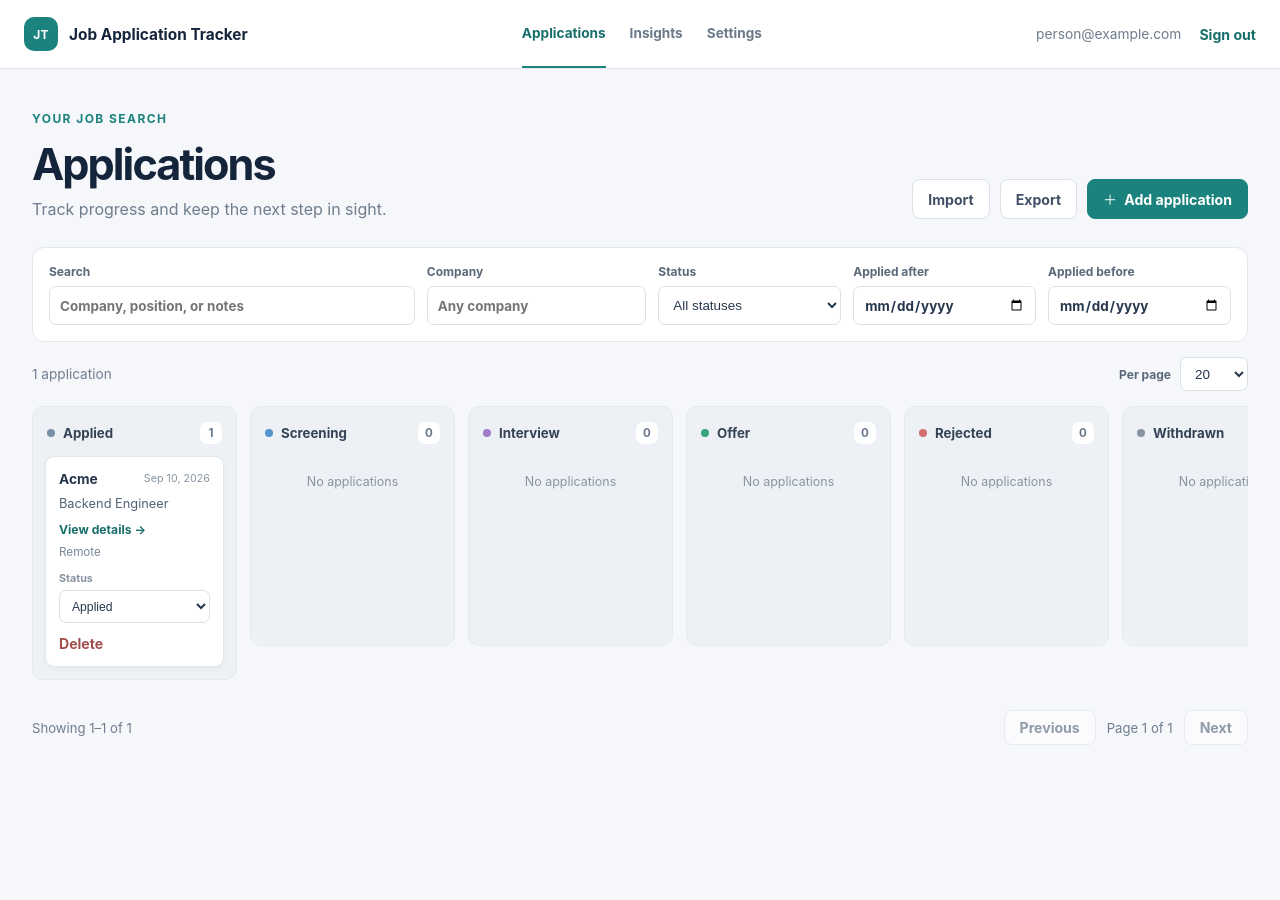
Test case: ApplicationsBoard › shows a useful error when export fails
The image size is (1280, 900).
Expected: the heading "Acme" is shown, [59,470,98,489]
Click the button "Export".
click(1038, 199)  # box [1000,179,1077,219]
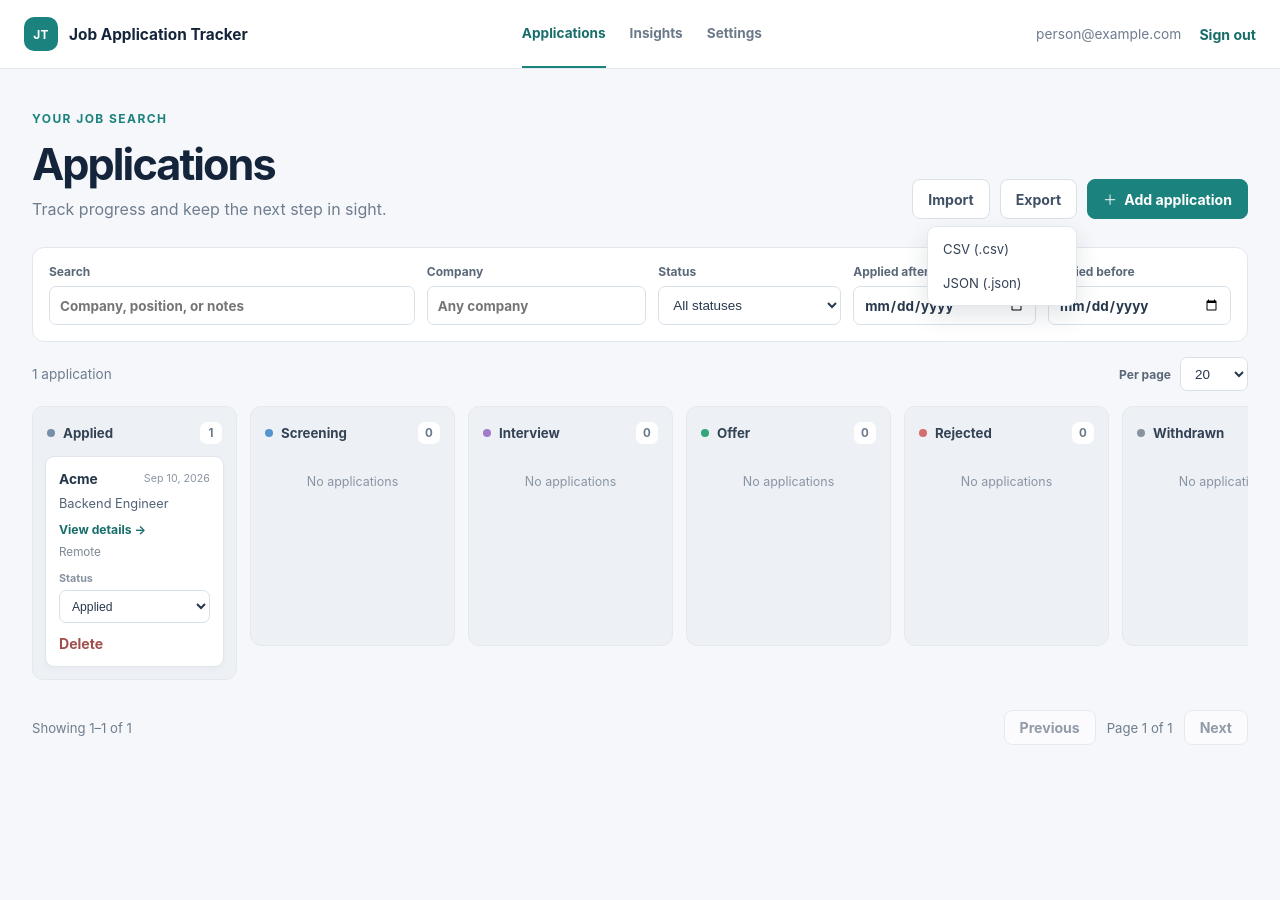
Click the button "JSON (.json)".
click(1002, 283)  # box [933,266,1071,300]
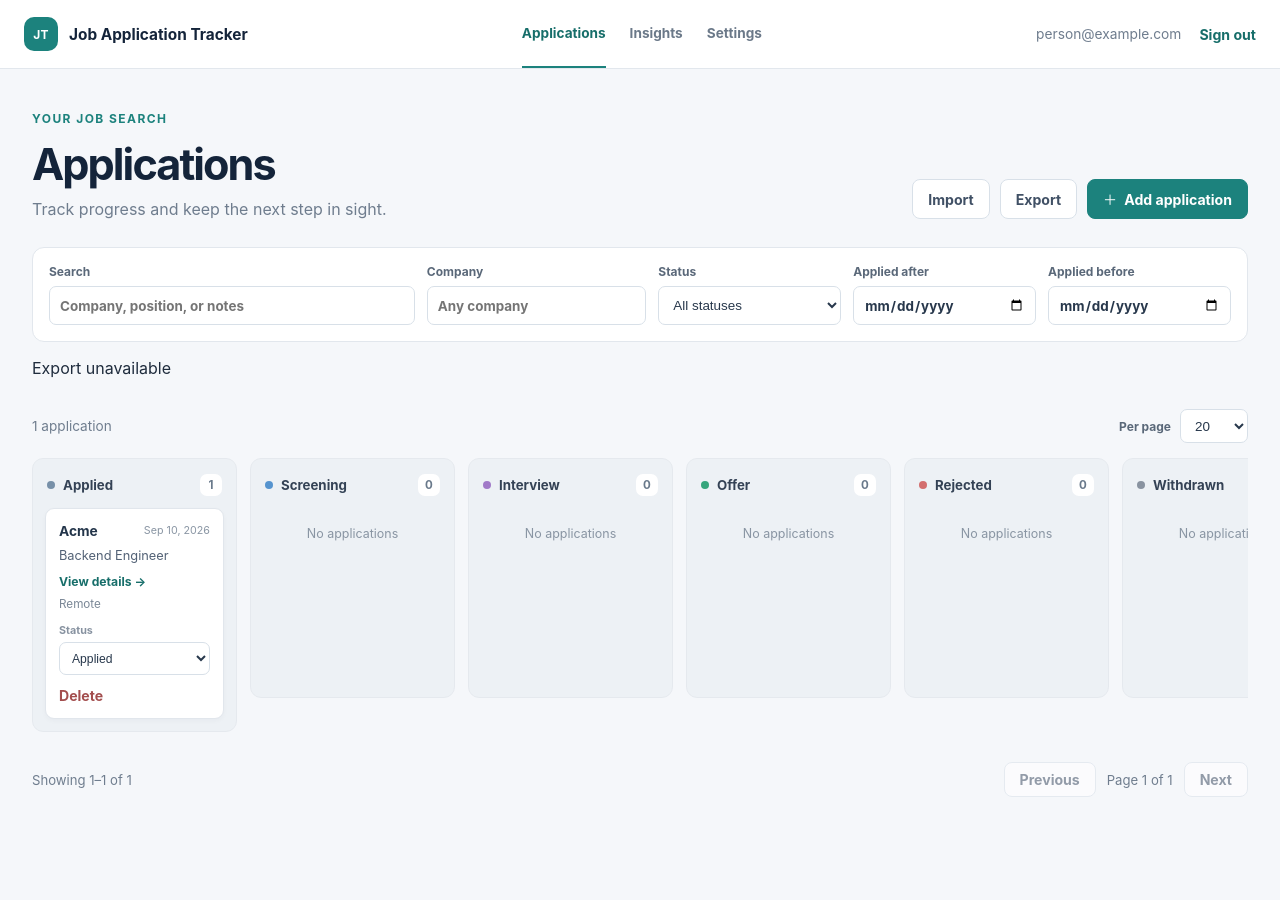
Expected: the message reads "Export unavailable", [32,358,171,378]
